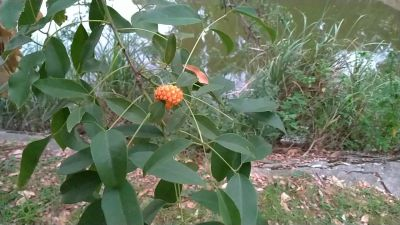eggs: (154, 80, 186, 110)
